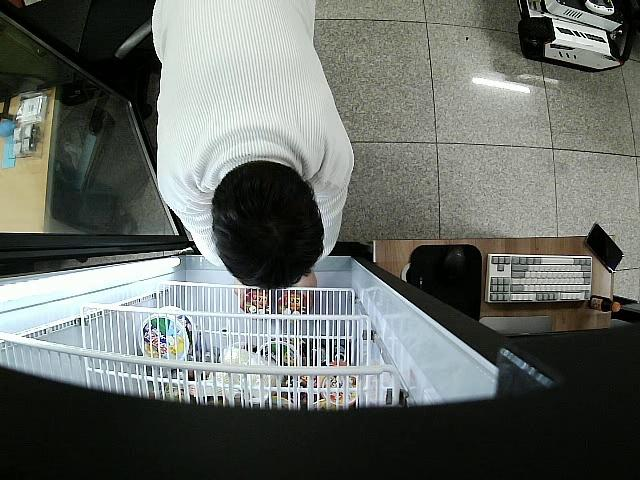06_nuguri_S: (277, 291, 309, 319), (238, 289, 269, 315)
